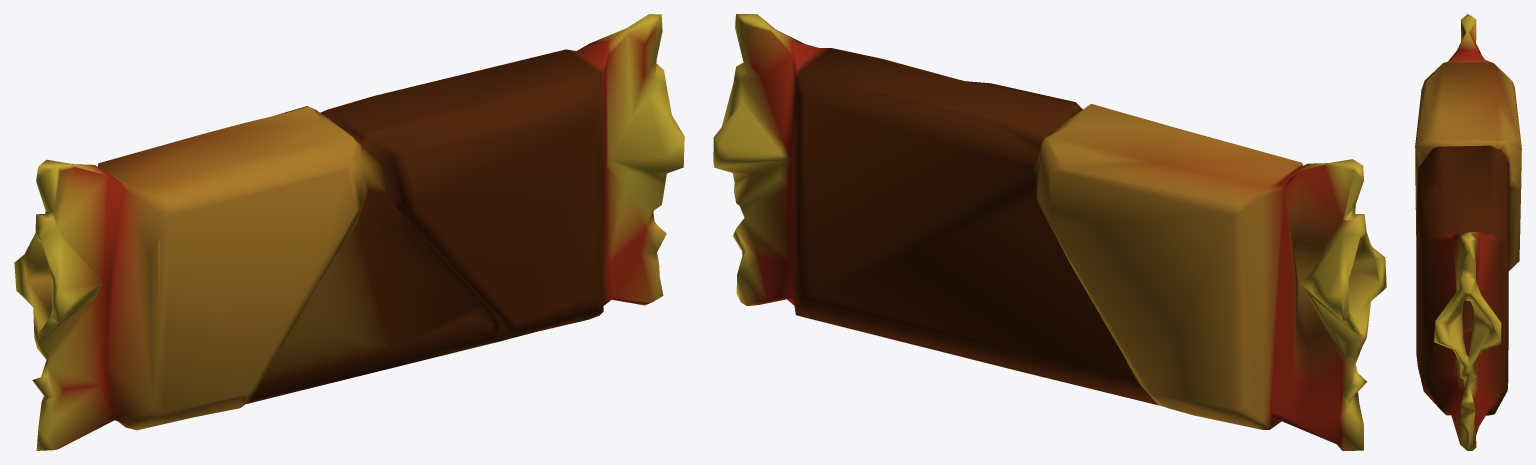
The model's file is gen3d-chocolate-bar-lod1.glb.
3 renders of one model, left to right at view 1: azimuth 30°, elevation 25°; view 2: azimuth 150°, elevation 25°; view 3: azimuth 270°, elevation 25°, orthographic. The views are drawn at different scales.
Visible parts, largest first — view 1: part_0; view 2: part_0; view 3: part_0.
Part boxes in pixels (<box>): part_0: <box>14,14,684,450</box>; part_0: <box>713,14,1386,450</box>; part_0: <box>1415,14,1521,450</box>.
Bounding box in the file's own units: 2.3 × 0.9981 × 0.4538.
